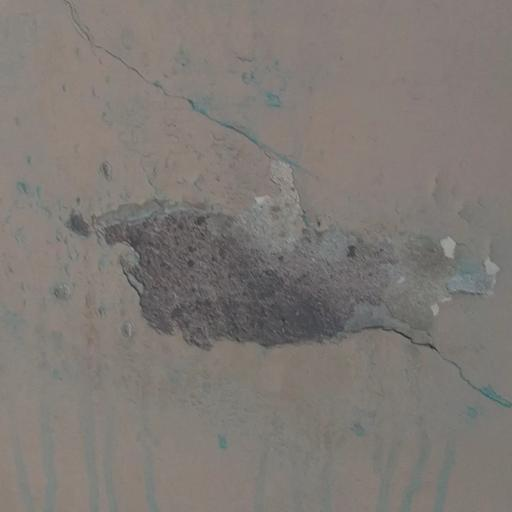peeling: (37, 157, 512, 411)
